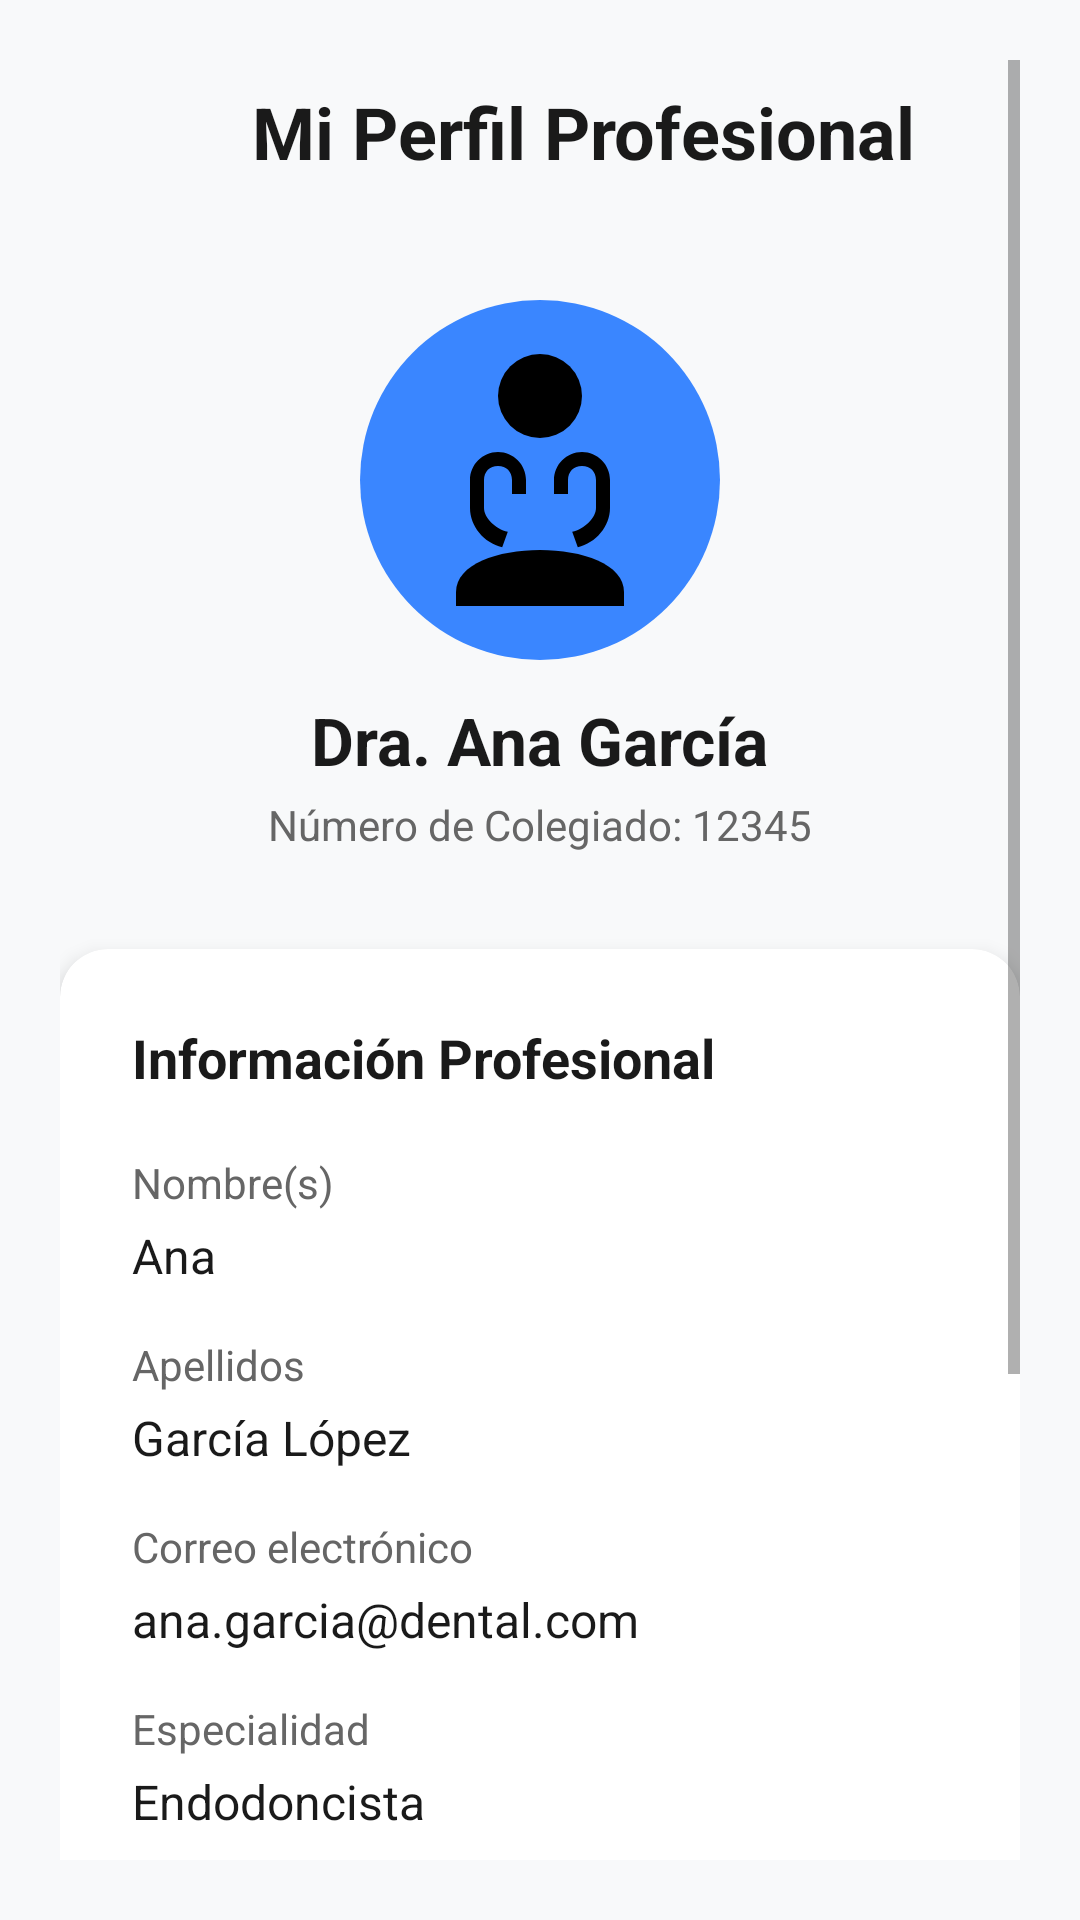

Named icons in this screenshot (1080x1920) and their centers, point (x, y):
doctor profile: point (540, 480)
